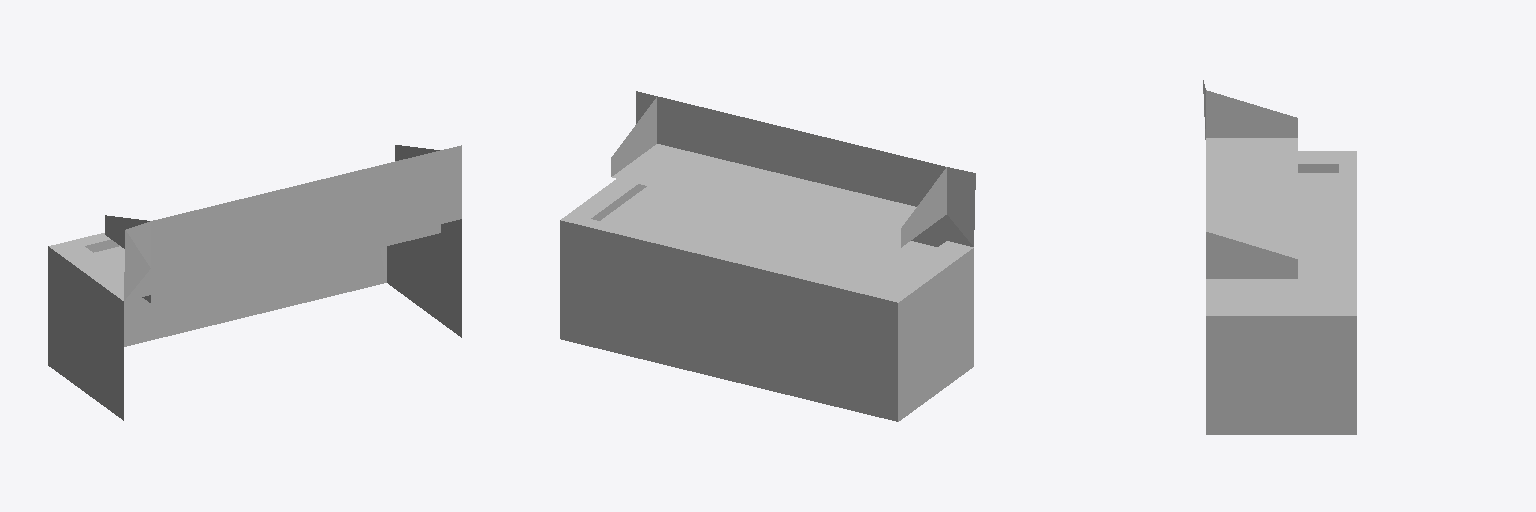
The model's file is grill.obj.
3 renders of one model, left to right at view 1: azimuth 30°, elevation 25°; view 2: azimuth 150°, elevation 25°; view 3: azimuth 270°, elevation 25°, orthographic.
Visible parts, largest first — view 1: Cube.001_Cube; view 2: Cube.001_Cube; view 3: Cube.001_Cube.
Part boxes in pixels (x1,y1,x2,y2): Cube.001_Cube: (48, 145, 461, 420); Cube.001_Cube: (560, 91, 975, 421); Cube.001_Cube: (1203, 80, 1356, 434).
Bounding box in the file's own units: 6.52 × 3.56 × 2.58.